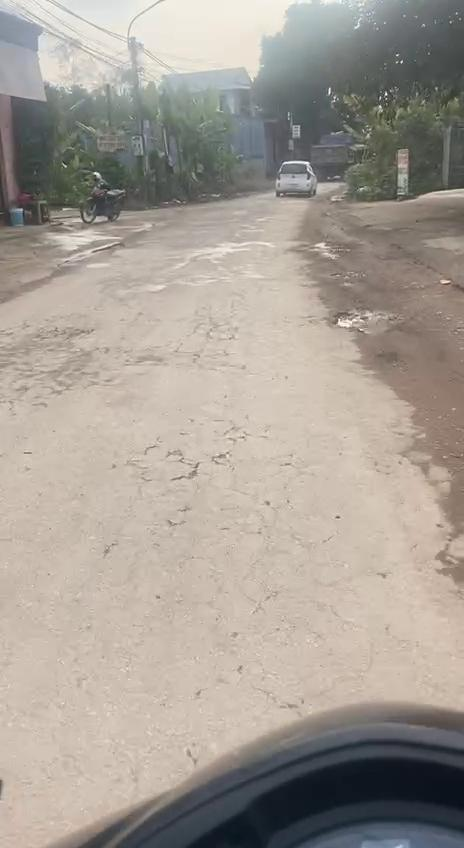pothole: (406, 422, 464, 590), (334, 302, 404, 338), (310, 238, 350, 264)
